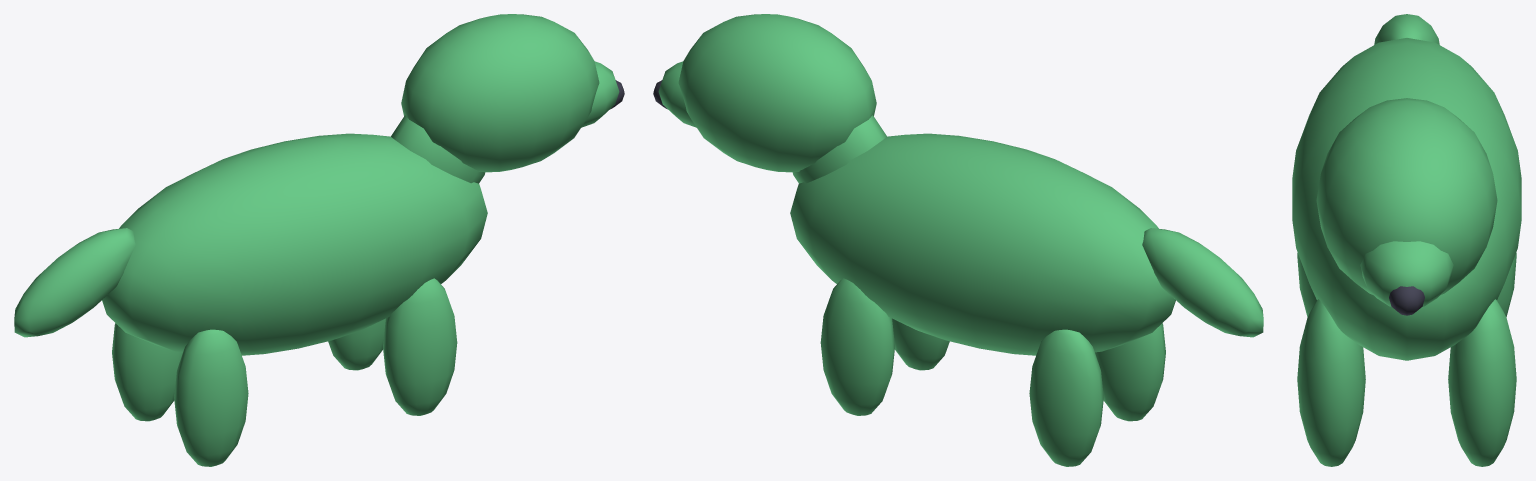
File: dinosaur.glb
3 views of the same model, side by side, from view 1: azimuth 30°, elevation 25°; view 2: azimuth 150°, elevation 25°; view 3: azimuth 270°, elevation 25° (orthographic). The views are drawn at different scales.
Visible parts, largest first — view 1: Body, Head, LegBackLeft, LegFrontLeft, Tail, LegBackRight, Neck, LegFrontRight, Snout; view 2: Body, Head, LegBackRight, LegFrontRight, Tail, LegBackLeft, Neck, LegFrontLeft, Snout; view 3: Body, Head, LegFrontLeft, LegFrontRight, Snout, Tail, Nose, LegBackLeft, LegBackRight.
Part boxes in pixels (left/top/right/bottom): Body: left=102, top=133, right=487, bottom=355; Head: left=401, top=14, right=599, bottom=172; LegBackLeft: left=174, top=329, right=248, bottom=466; LegFrontLeft: left=383, top=278, right=457, bottom=415; Tail: left=14, top=228, right=135, bottom=337; LegBackRight: left=112, top=323, right=182, bottom=421; Neck: left=391, top=115, right=485, bottom=183; LegFrontRight: left=328, top=318, right=385, bottom=370; Snout: left=581, top=61, right=619, bottom=127; Body: left=790, top=133, right=1175, bottom=355; Head: left=678, top=14, right=876, bottom=172; LegBackRight: left=1029, top=329, right=1103, bottom=466; LegFrontRight: left=820, top=278, right=894, bottom=415; Tail: left=1142, top=228, right=1263, bottom=337; LegBackLeft: left=1095, top=323, right=1165, bottom=421; Neck: left=792, top=115, right=886, bottom=183; LegFrontLeft: left=892, top=318, right=949, bottom=370; Snout: left=658, top=61, right=696, bottom=127; Body: left=1292, top=38, right=1521, bottom=360; Head: left=1316, top=98, right=1497, bottom=294; LegFrontLeft: left=1297, top=299, right=1365, bottom=466; LegFrontRight: left=1448, top=299, right=1516, bottom=466; Snout: left=1360, top=241, right=1453, bottom=306; Tail: left=1374, top=14, right=1439, bottom=44; Nose: left=1389, top=286, right=1424, bottom=315; LegBackLeft: left=1297, top=252, right=1316, bottom=316; LegBackRight: left=1497, top=252, right=1516, bottom=316.
Bounding box in the file's own units: 2.37 × 1.28 × 0.6362.
